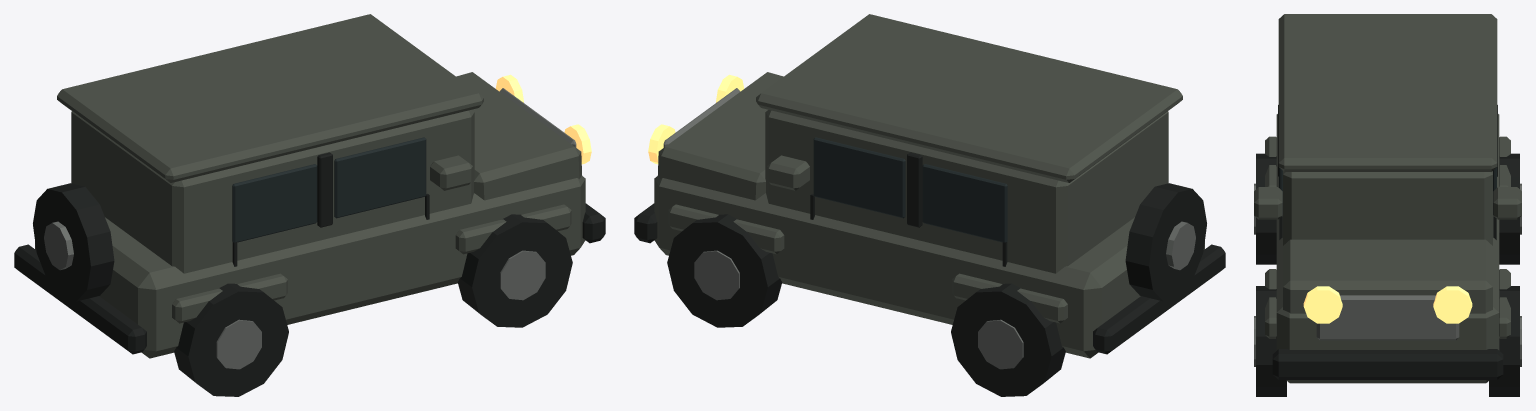
File: luxury-suv.glb
3 views of the same model, side by side, from view 1: azimuth 30°, elevation 25°; view 2: azimuth 150°, elevation 25°; view 3: azimuth 270°, elevation 25° (orthographic). The views are drawn at different scales.
Parts seen in each view (by area): view 1: SUV_Roof_Cap, SUV_Main_Body, SUV_Cabin, SUV_Hood, Wheel_1.22_-0.9, Wheel_-1.2_-0.9, SUV_Rear_Spare_Wheel, Front_Window_-0.825, Rear_Window_-0.825, SUV_Rear_Bumper, Wheel_Hub_1.22_-0.9, Wheel_Hub_-1.2_-0.9 (+8 smaller); view 2: SUV_Roof_Cap, SUV_Main_Body, SUV_Cabin, SUV_Hood, Wheel_1.22_0.9, Wheel_-1.2_0.9, SUV_Rear_Spare_Wheel, Front_Window_0.825, Rear_Window_0.825, SUV_Rear_Bumper, Wheel_Hub_1.22_0.9, Wheel_Hub_-1.2_0.9 (+8 smaller); view 3: SUV_Roof_Cap, SUV_Cabin, SUV_Hood, SUV_Front_Bumper, SUV_Main_Body, SUV_Grille_Frame, Wheel_1.22_0.9, Wheel_1.22_-0.9, Wheel_-1.2_0.9, Wheel_-1.2_-0.9, Round_Headlamp_0.5, Round_Headlamp_-0.5 (+6 smaller).
Boxes of the visible parts, bbox=[...] form: SUV_Roof_Cap: bbox=[57, 14, 483, 182]; SUV_Main_Body: bbox=[35, 176, 585, 358]; SUV_Cabin: bbox=[71, 110, 474, 273]; SUV_Hood: bbox=[456, 72, 581, 200]; Wheel_1.22_-0.9: bbox=[457, 214, 572, 327]; Wheel_-1.2_-0.9: bbox=[174, 283, 288, 396]; SUV_Rear_Spare_Wheel: bbox=[33, 183, 114, 301]; Front_Window_-0.825: bbox=[334, 137, 426, 218]; Rear_Window_-0.825: bbox=[232, 164, 317, 242]; SUV_Rear_Bumper: bbox=[14, 244, 146, 354]; Wheel_Hub_1.22_-0.9: bbox=[500, 250, 545, 300]; Wheel_Hub_-1.2_-0.9: bbox=[216, 319, 261, 369]; SUV_Roof_Cap: bbox=[756, 14, 1182, 182]; SUV_Main_Body: bbox=[654, 176, 1204, 358]; SUV_Cabin: bbox=[765, 110, 1168, 273]; SUV_Hood: bbox=[658, 72, 783, 200]; Wheel_1.22_0.9: bbox=[667, 214, 782, 327]; Wheel_-1.2_0.9: bbox=[951, 283, 1065, 396]; SUV_Rear_Spare_Wheel: bbox=[1125, 183, 1206, 301]; Front_Window_0.825: bbox=[813, 137, 905, 218]; Rear_Window_0.825: bbox=[922, 164, 1007, 242]; SUV_Rear_Bumper: bbox=[1093, 244, 1225, 354]; Wheel_Hub_1.22_0.9: bbox=[694, 250, 739, 300]; Wheel_Hub_-1.2_0.9: bbox=[978, 319, 1023, 369]; SUV_Roof_Cap: bbox=[1278, 14, 1497, 171]; SUV_Cabin: bbox=[1283, 171, 1492, 245]; SUV_Hood: bbox=[1283, 239, 1492, 313]; SUV_Front_Bumper: bbox=[1272, 349, 1503, 379]; SUV_Main_Body: bbox=[1276, 114, 1499, 383]; SUV_Grille_Frame: bbox=[1316, 295, 1459, 340]; Wheel_1.22_0.9: bbox=[1489, 286, 1519, 396]; Wheel_1.22_-0.9: bbox=[1256, 286, 1286, 396]; Wheel_-1.2_0.9: bbox=[1499, 153, 1519, 264]; Wheel_-1.2_-0.9: bbox=[1256, 153, 1276, 264]; Round_Headlamp_0.5: bbox=[1433, 286, 1472, 323]; Round_Headlamp_-0.5: bbox=[1303, 286, 1342, 323].
Bounding box in the file's own units: 4.2 × 1.88 × 2.07.
